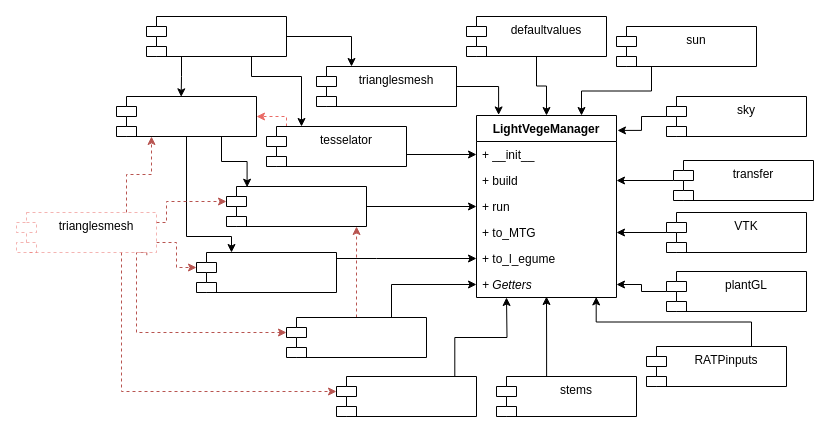
This 830x433 diagram has some shape labels left out. Here are the shapes that lost their labels. From the top down, the centre of each, then its label:
the point at 216,36: basicgeometry
the point at 186,116: voxelsmesh
the point at 296,206: buildRATPscene
the point at 266,272: CARIBUinputs
the point at 356,337: leafangles
the point at 406,396: outputs
